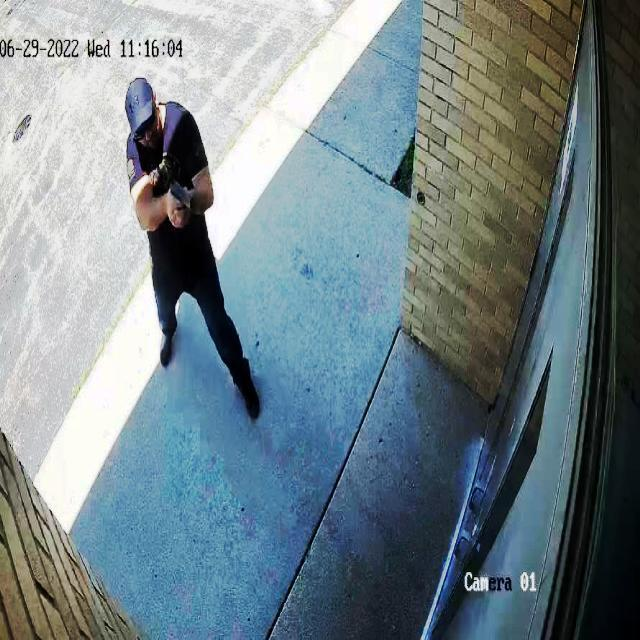Gun: (155, 169, 215, 226)
